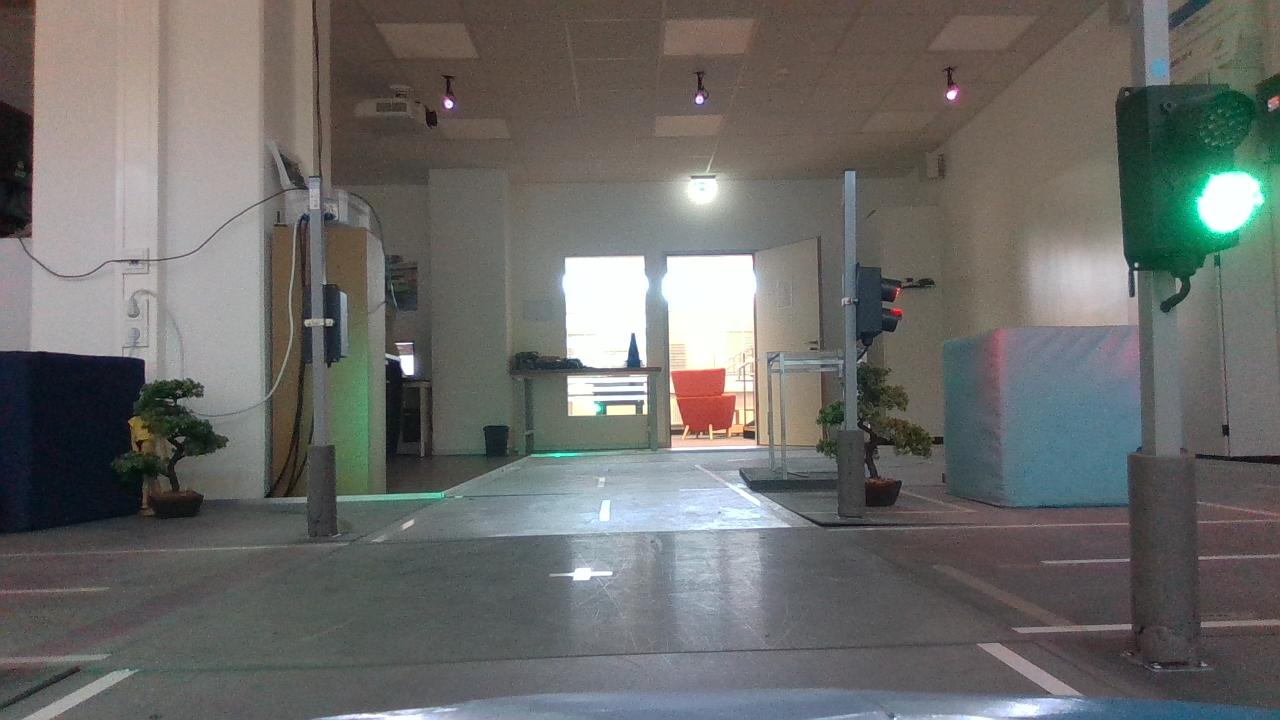traffic_light_green: (1100, 77, 1272, 284)
